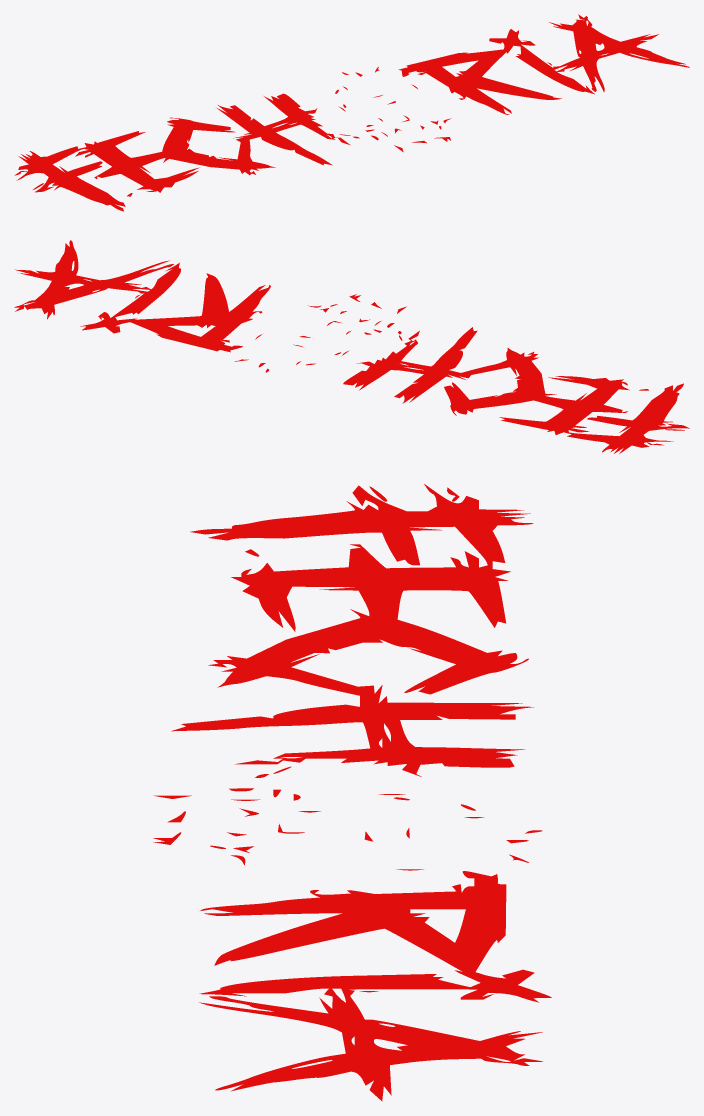
File: fechoria_b.gltf
The picture shows the model from 3 angles, top to bottom: view 1: azimuth 30°, elevation 25°; view 2: azimuth 150°, elevation 25°; view 3: azimuth 270°, elevation 25°; orthographic projection. The views are drawn at different scales.
Parts seen in each view (by area): view 1: Curve.002; view 2: Curve.002; view 3: Curve.002.
Boxes of the visible parts, <box> form: Curve.002: <box>14,14,689,211</box>; Curve.002: <box>14,240,689,453</box>; Curve.002: <box>153,484,551,1101</box>.
Bounding box in the file's own units: 0.0903 × 0 × 0.0247.
